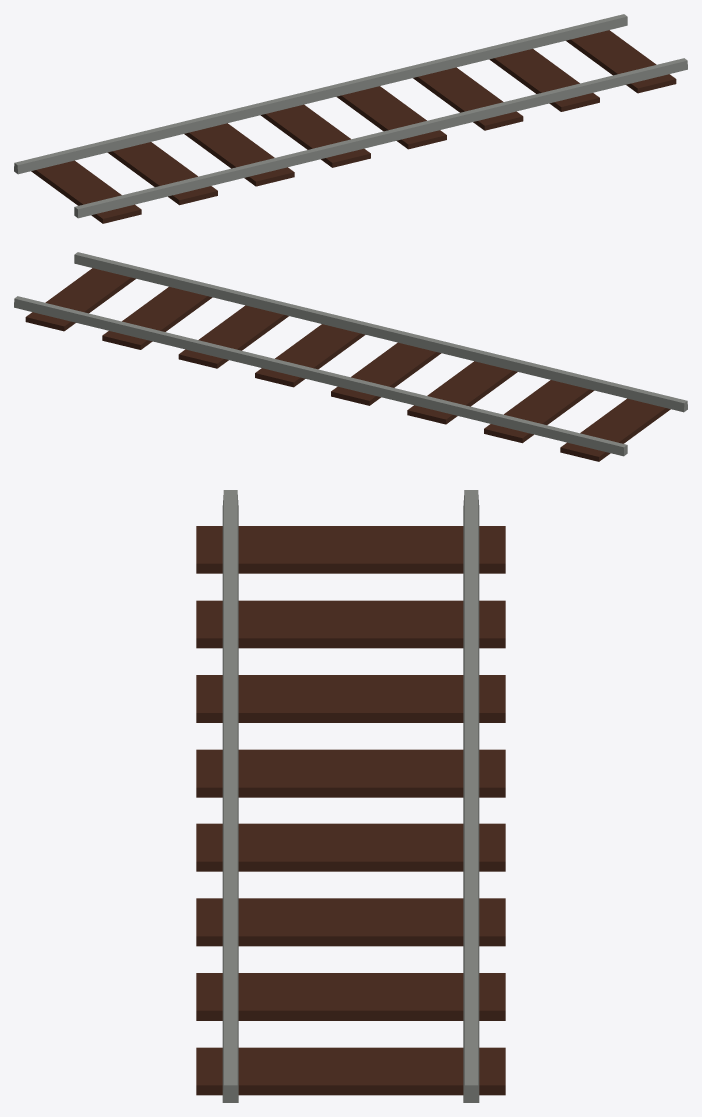
Rendered from MiningTrackStraight.glb.
3 views of the same model, one above another, from view 1: azimuth 30°, elevation 25°; view 2: azimuth 150°, elevation 25°; view 3: azimuth 270°, elevation 25° (orthographic). The views are drawn at different scales.
Visible parts, largest first — view 1: MiningTrackStraight; view 2: MiningTrackStraight; view 3: MiningTrackStraight.
Part boxes in pixels (x1=…): MiningTrackStraight: x1=14, y1=14, x2=687, y2=223; MiningTrackStraight: x1=14, y1=252, x2=687, y2=461; MiningTrackStraight: x1=196, y1=490, x2=505, y2=1102.
Bounding box in the file's own units: 3.19 × 0.07 × 0.7.
Materials: 1 (1 with a texture image).
